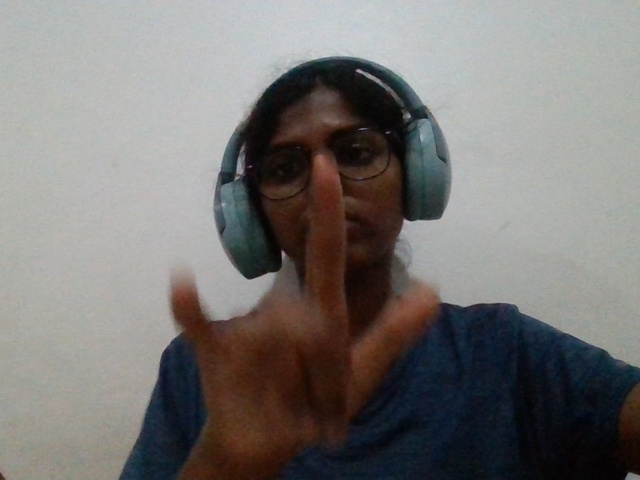I Love You: (128, 140, 438, 480)
